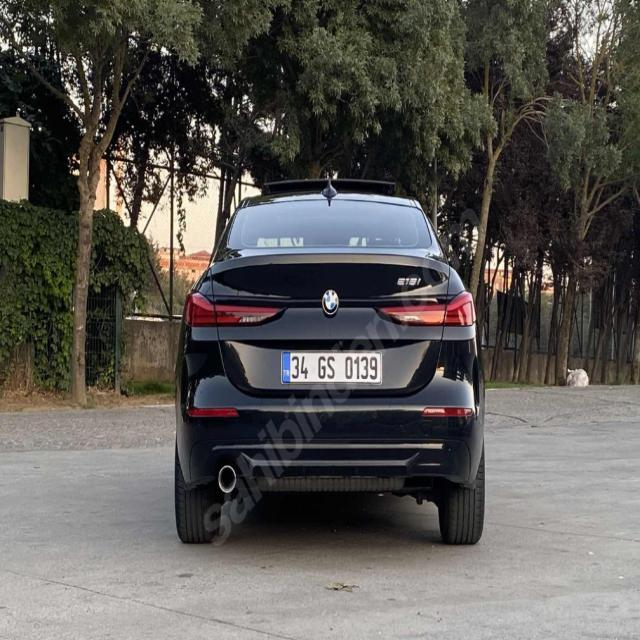bmw: (322, 286, 340, 320)
